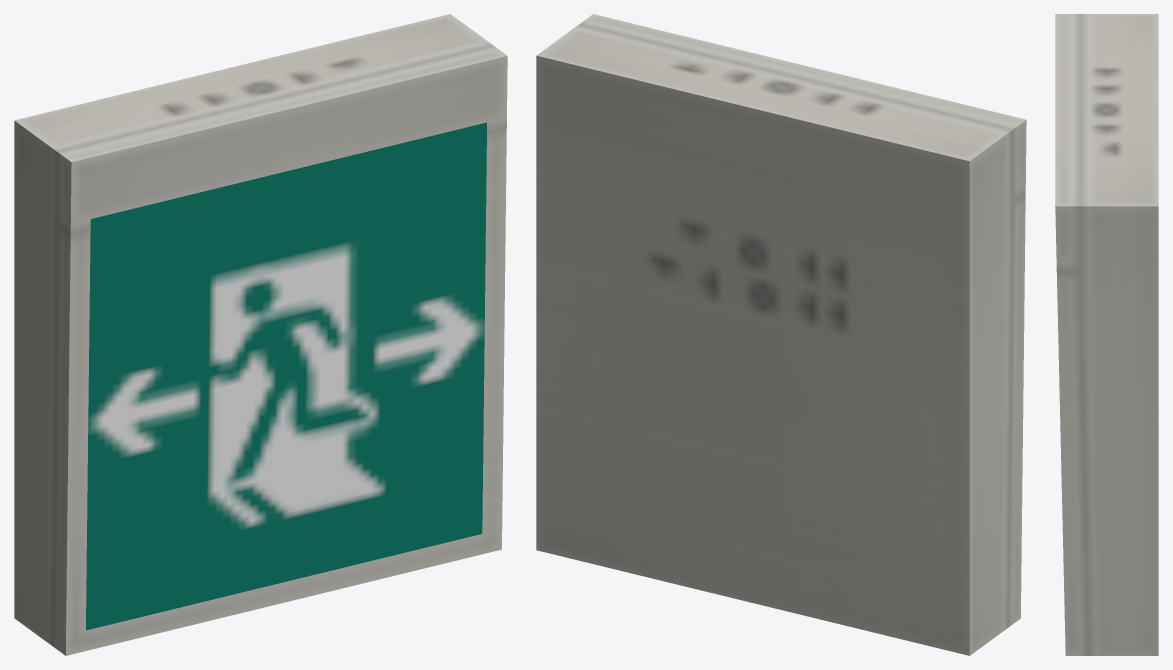
File: SHW_Exitlight_mini_01_05.fbx
3 views of the same model, side by side, from view 1: azimuth 30°, elevation 25°; view 2: azimuth 150°, elevation 25°; view 3: azimuth 270°, elevation 25° (orthographic). The views are drawn at different scales.
Visible parts, largest first — view 1: shw_exitlight_mini_01_05; view 2: shw_exitlight_mini_01_05; view 3: shw_exitlight_mini_01_05.
Part boxes in pixels (x1,y1,x2,y2): shw_exitlight_mini_01_05: (14,14,507,655); shw_exitlight_mini_01_05: (536,14,1026,655); shw_exitlight_mini_01_05: (1055,14,1158,655).
Size of the model in its own units: 22 by 24 by 5.
